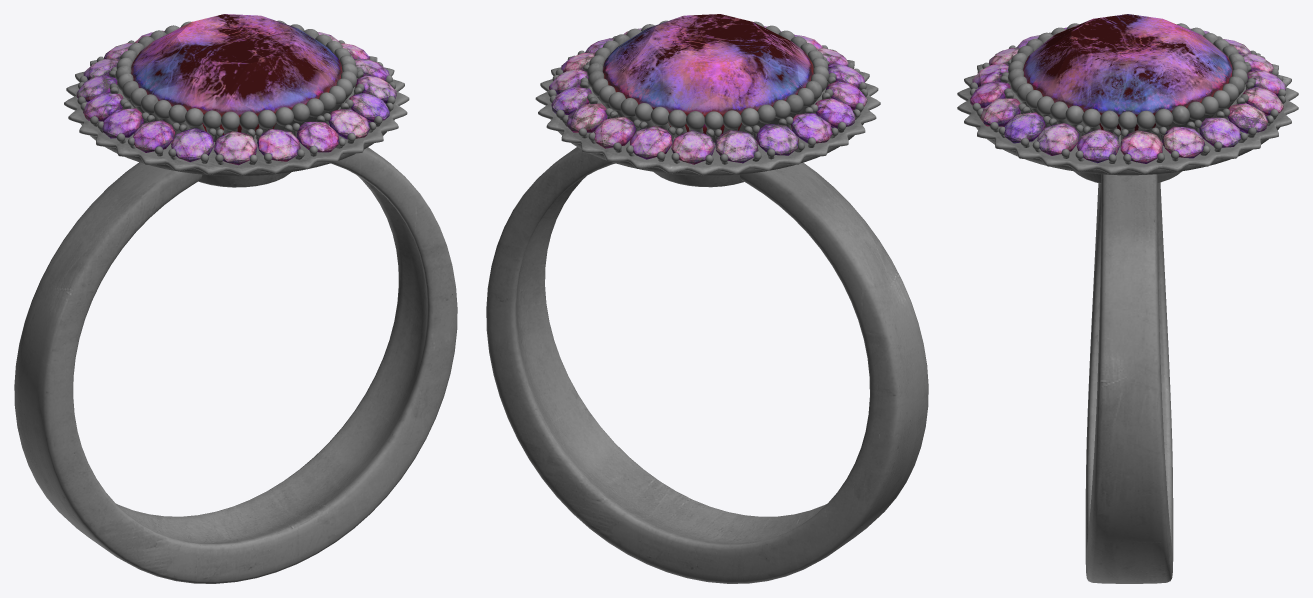
The model's file is ring.glb.
The picture shows the model from 3 angles, left to right: view 1: azimuth 30°, elevation 25°; view 2: azimuth 150°, elevation 25°; view 3: azimuth 270°, elevation 25°; orthographic projection.
Parts seen in each view (by area): view 1: dobj; view 2: dobj; view 3: dobj.
Boxes of the visible parts, box(x1,y1,x2,y2) form: dobj: box(14, 14, 457, 583); dobj: box(486, 14, 928, 583); dobj: box(957, 14, 1298, 583).
Bounding box in the file's own units: 4.55 × 5.51 × 3.26.
Materials: 3 (3 with a texture image).
